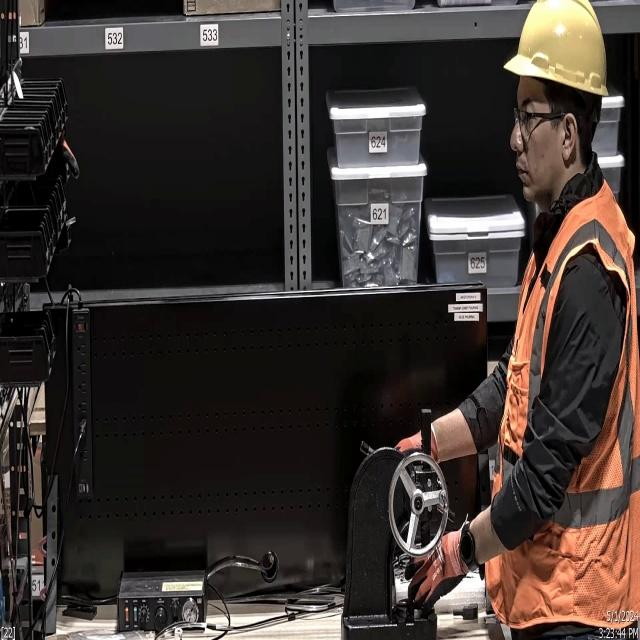construction-gloves: (403, 522, 462, 624)
